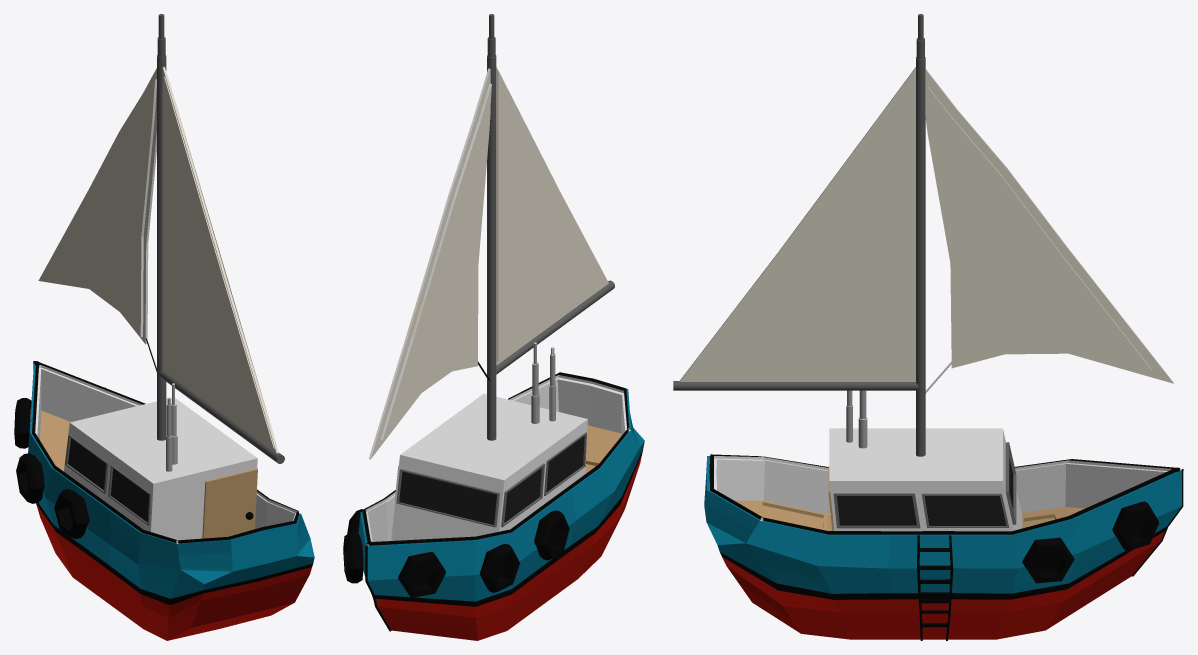
Rendered from sail-boat.glb.
3 renders of one model, left to right at view 1: azimuth 30°, elevation 25°; view 2: azimuth 150°, elevation 25°; view 3: azimuth 270°, elevation 25°, orthographic. The views are drawn at different scales.
Parts seen in each view (by area): view 1: Sphere; view 2: Sphere; view 3: Sphere.
Boxes of the visible parts, left/top/right/bottom form: Sphere: left=14, top=14, right=314, bottom=640; Sphere: left=343, top=14, right=644, bottom=640; Sphere: left=673, top=14, right=1183, bottom=640.
Bounding box in the file's own units: 248 × 843 × 652.
